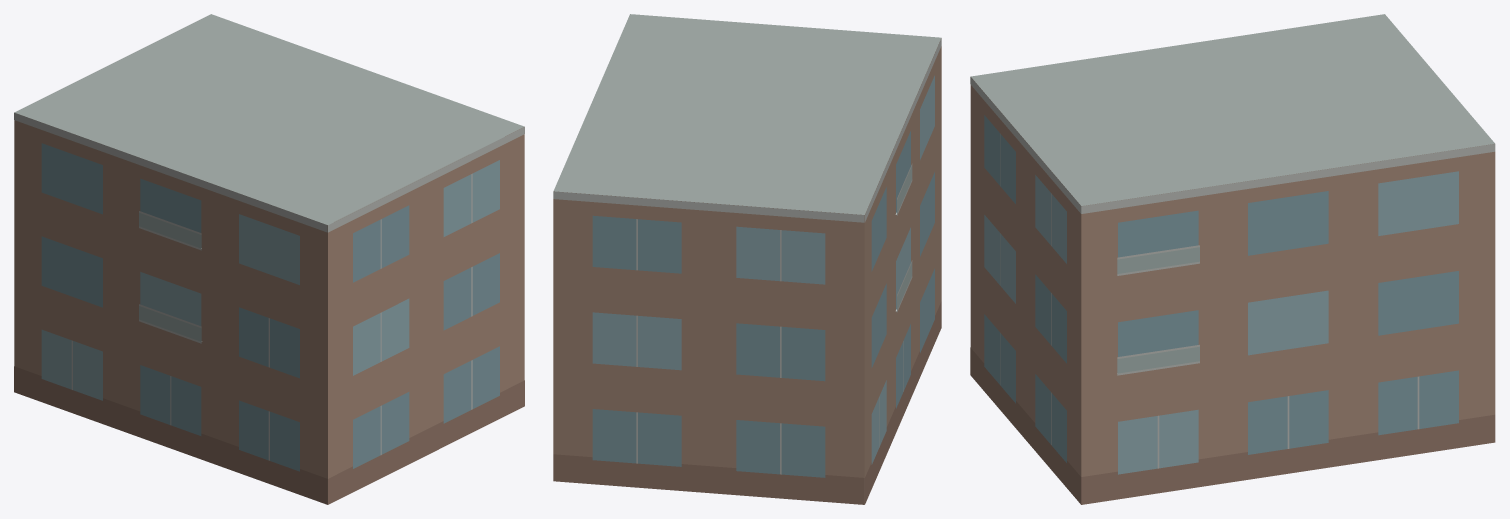
File: survey-upis-32805710.glb
3 views of the same model, side by side, from view 1: azimuth 30°, elevation 25°; view 2: azimuth 150°, elevation 25°; view 3: azimuth 270°, elevation 25° (orthographic). The views are drawn at different scales.
Parts seen in each view (by area): view 1: survey-upis-32805710.tmp; view 2: survey-upis-32805710.tmp; view 3: survey-upis-32805710.tmp.
Part boxes in pixels (<box>): survey-upis-32805710.tmp: <box>14,14,524,504</box>; survey-upis-32805710.tmp: <box>553,14,941,504</box>; survey-upis-32805710.tmp: <box>970,14,1495,504</box>.
Bounding box in the file's own units: 12.63 × 9.15 × 14.58.
